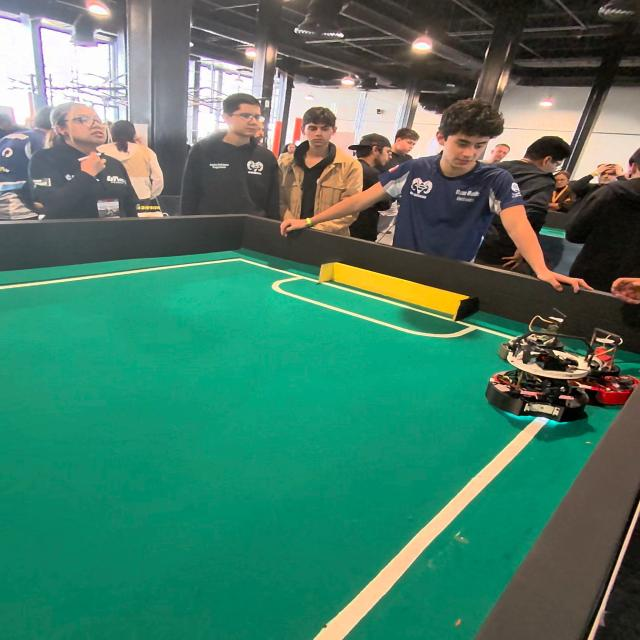Robot: (502, 315, 586, 382), (484, 372, 581, 429), (584, 326, 630, 407)
